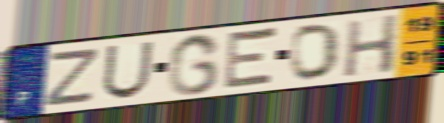E: (220, 25, 281, 92)
G: (165, 31, 223, 97)
H: (341, 12, 402, 79)
O: (289, 21, 343, 82)
U: (100, 39, 157, 101)
Z: (41, 45, 103, 109)
